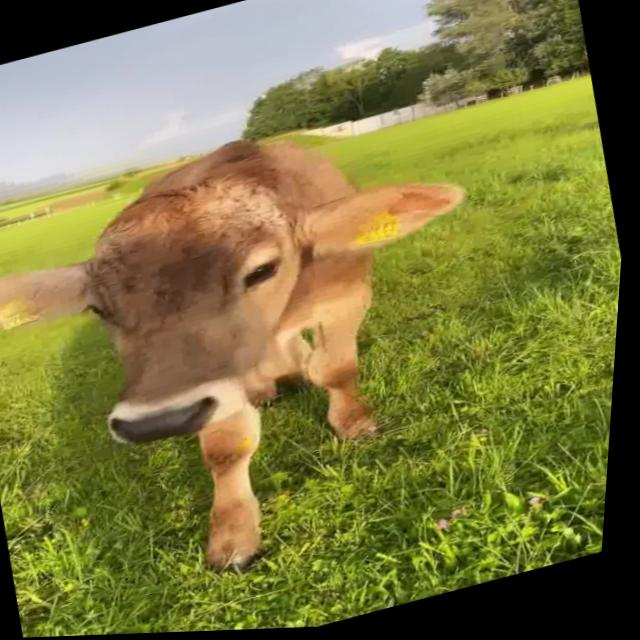cowFace: (0, 115, 496, 453)
